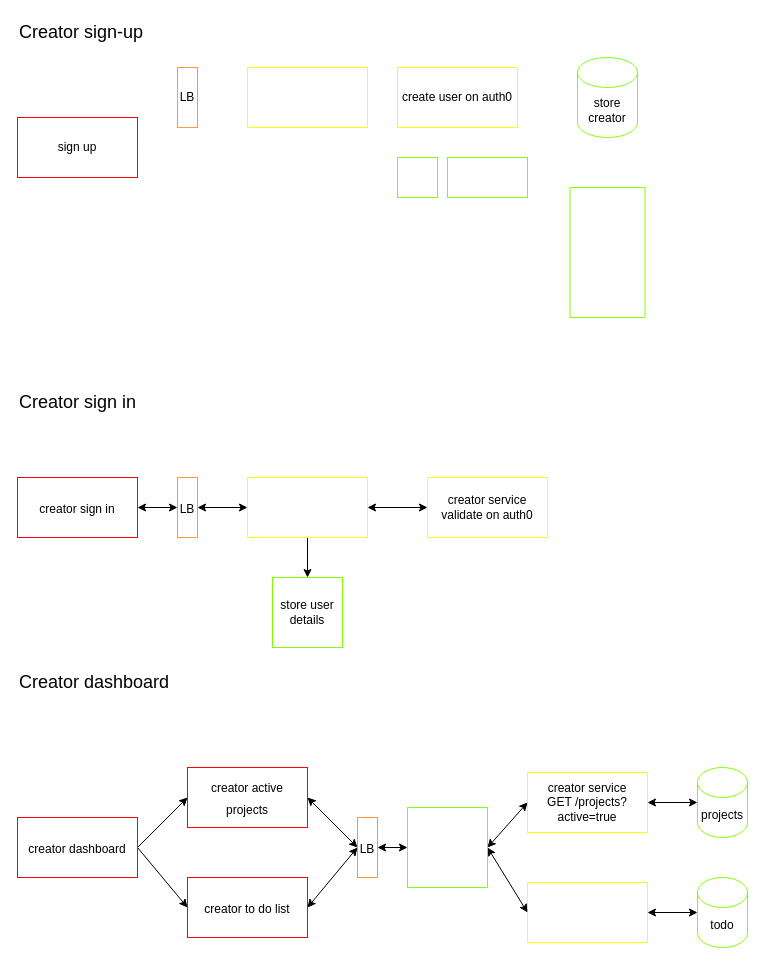
Image size: 765x965. Some labels were removed from this diagram. Each missing label, with the centre of its shape:
"add user event" belongs at point 607,252.
"creator service GET /todo" belongs at point 587,912.
"Creator service POST /creator" belongs at point 307,97.
"creator service POST /login" belongs at point 307,507.
"get user details and store projects and todo list" belongs at point 447,847.
"redis" belongs at point 417,177.
"s3(profile photo)" belongs at point 487,177.
